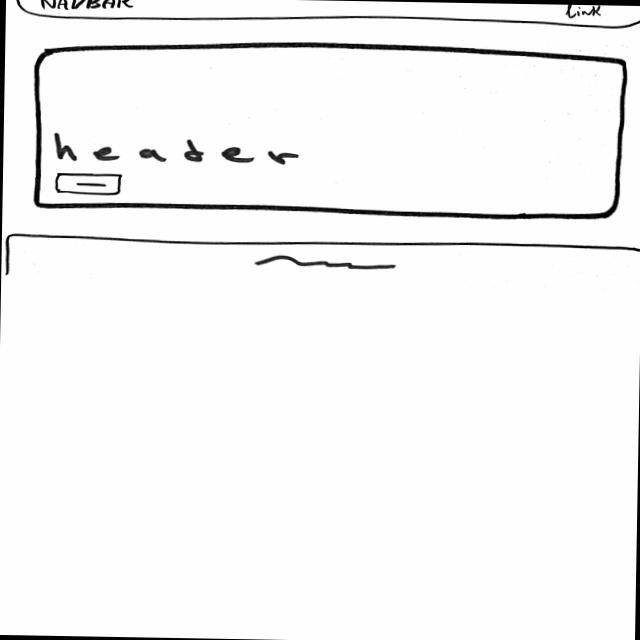container: (32, 39, 631, 223), (7, 1, 640, 31)
icon-button: (52, 172, 125, 198)
label: (52, 132, 305, 168), (39, 1, 136, 12), (564, 5, 605, 20)
